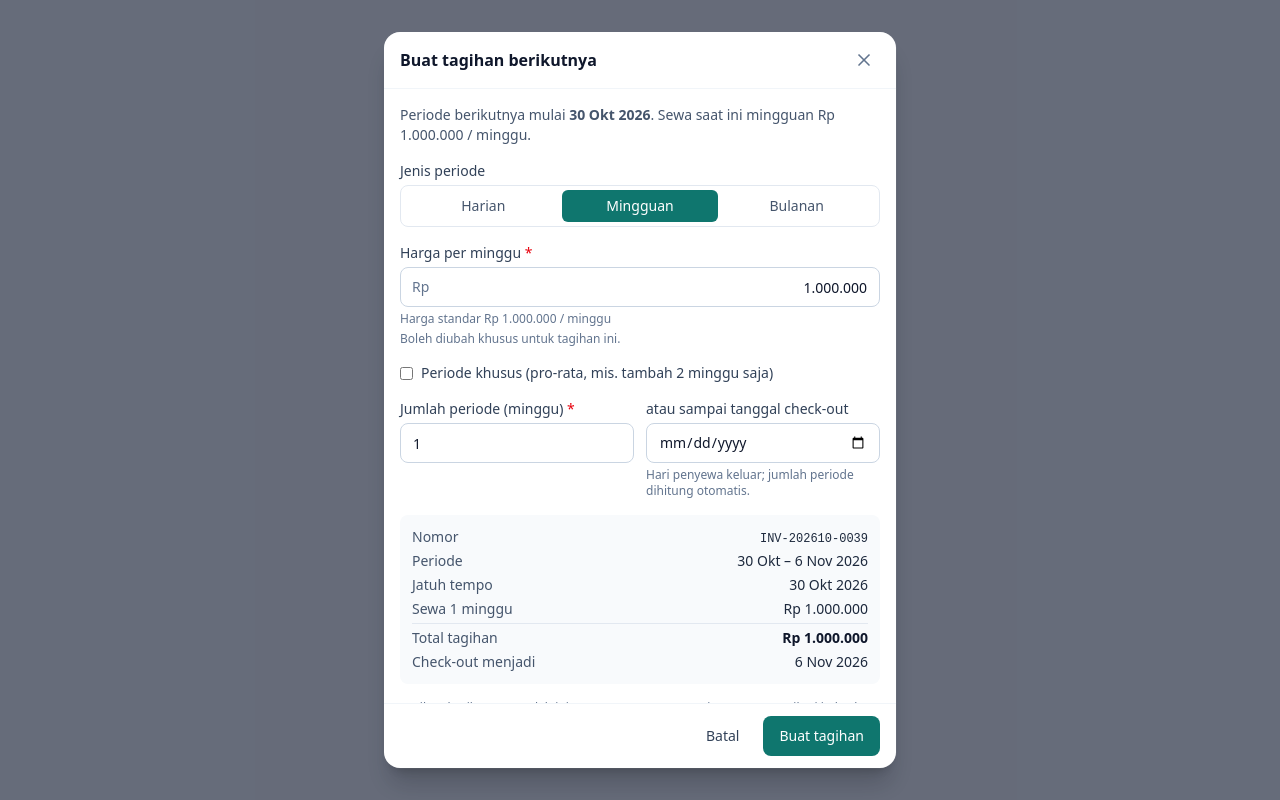
Buat tagihan berikutnya: deposit when a stay switches to weekly or monthly › the rest not paid yet: the toast names the rest, not the whole deposit
Step 1. Click the 2nd radio button labelled "Bulanan" → (797, 206), box [718,190,875,222]
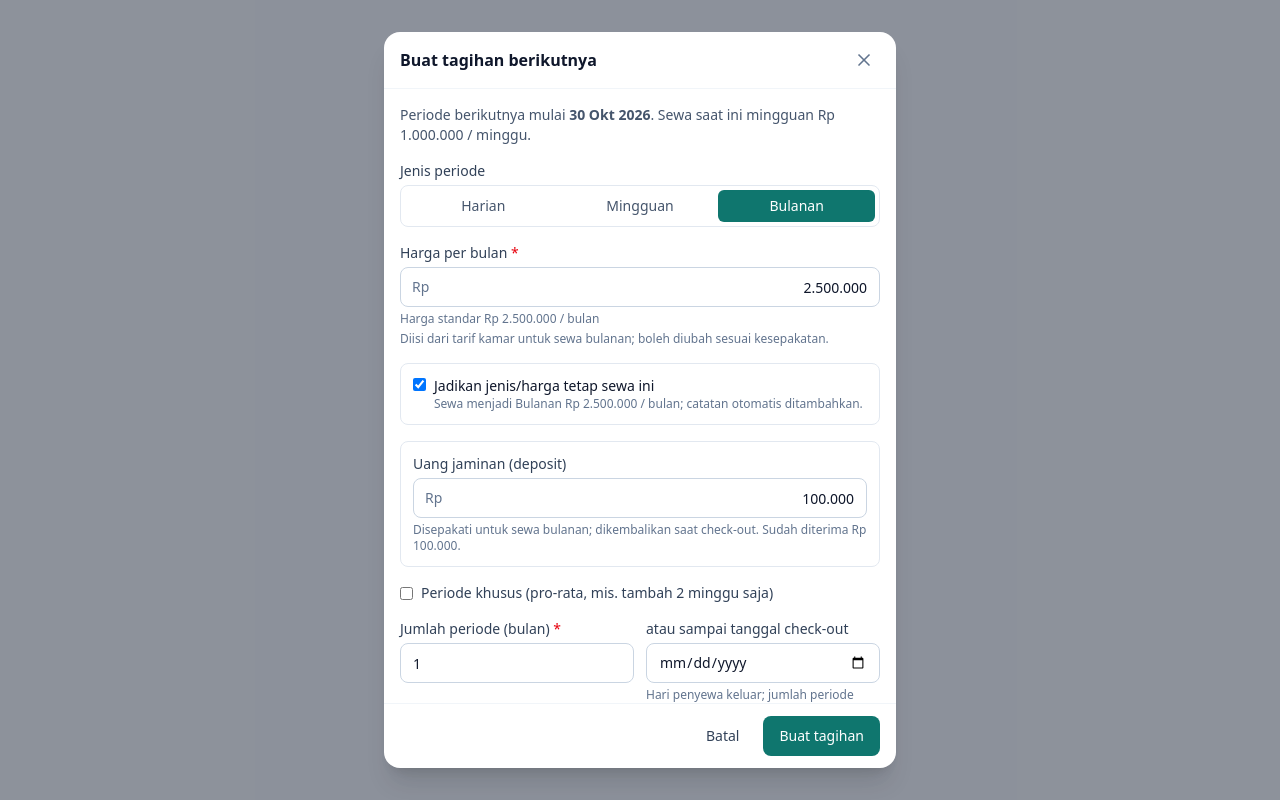
Step 2. Replace the text in the field labelled "Uang jaminan (deposit)" with "300000" → (640, 498), box [413,478,867,518]
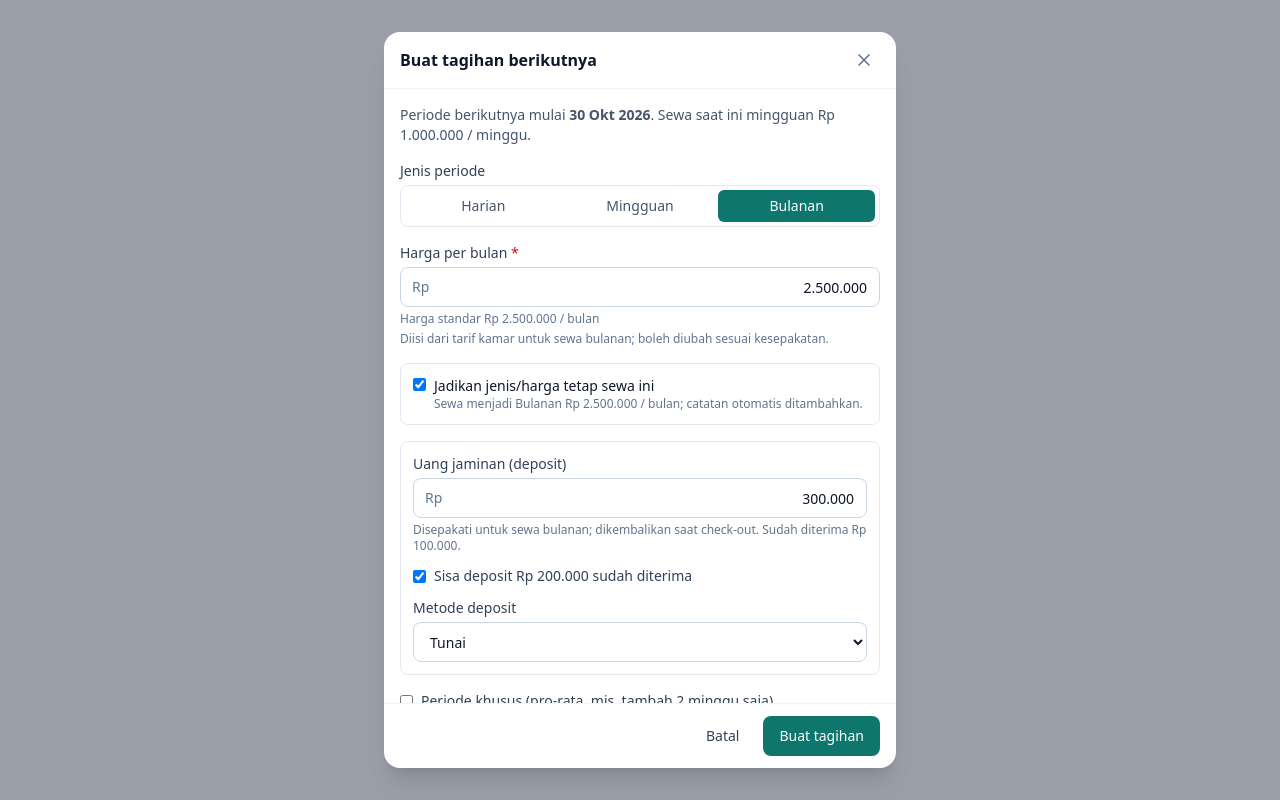
Step 3. Click the checkbox labelled "Sisa deposit Rp 200.000 sudah diterima" → (420, 576), box [413,570,426,582]
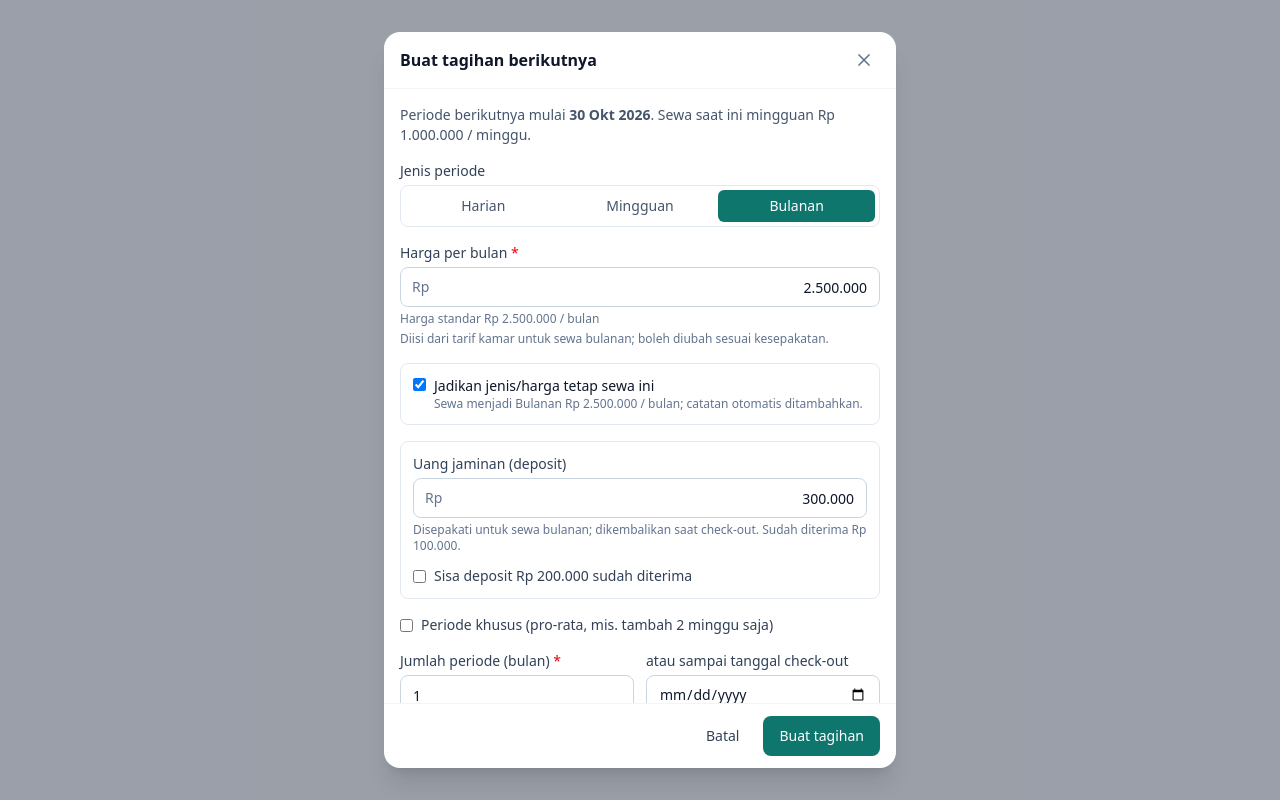
Step 4. Click the button "Buat tagihan" → (822, 736), box [763,716,880,756]
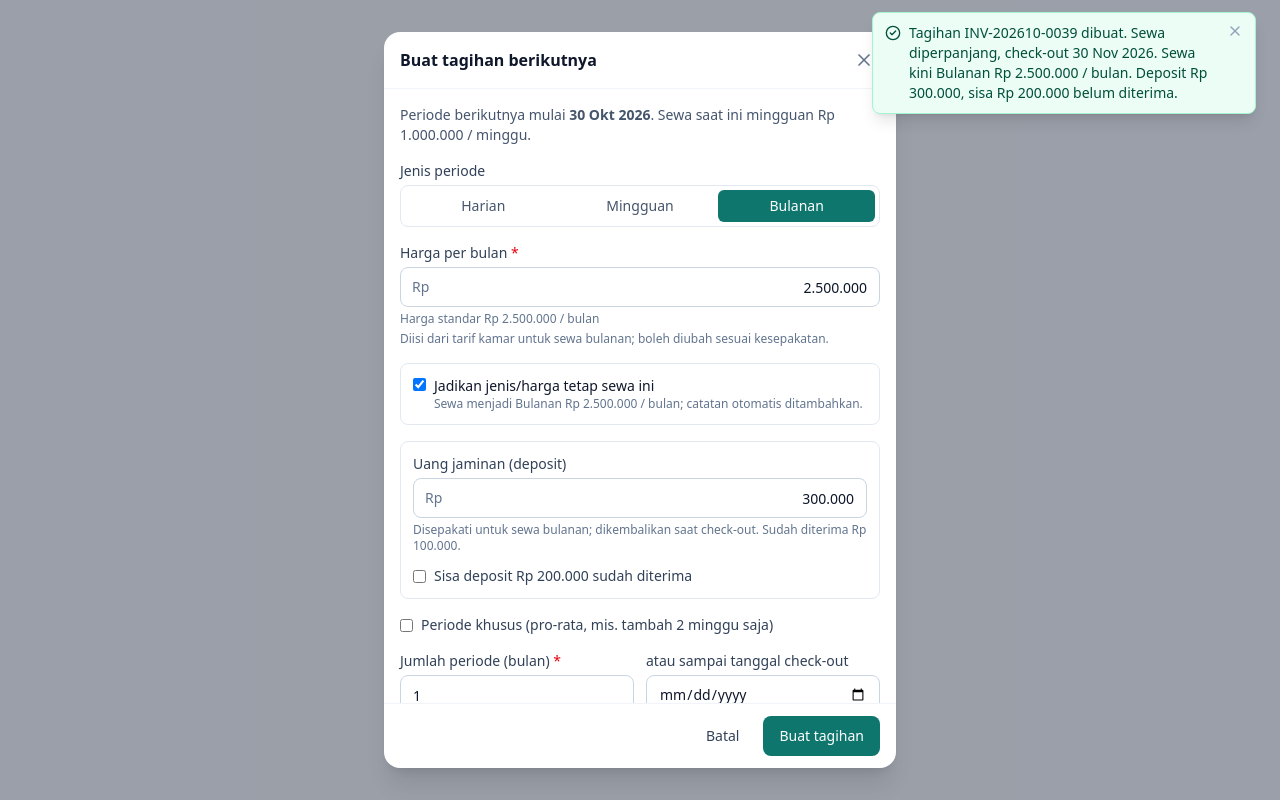
Expected: the text "Deposit Rp 300.000, sisa Rp 200.000 belum diterima." is shown, [909,23,1207,102]
